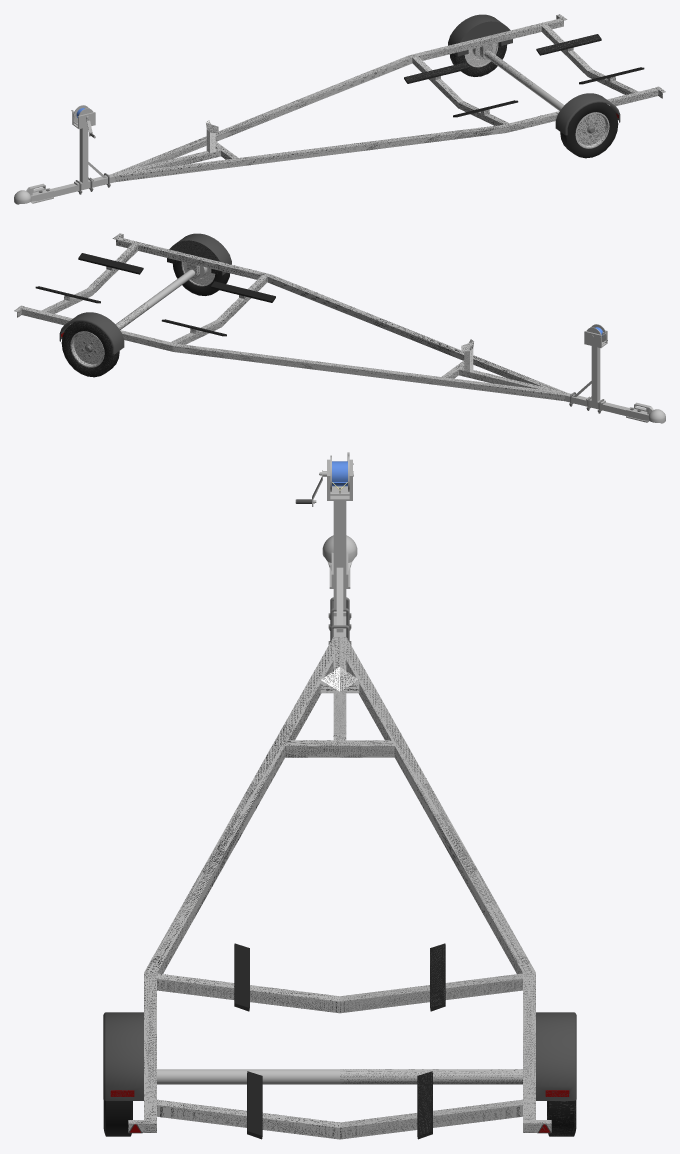
The model's file is Boat Trailer.dae.
The picture shows the model from 3 angles, top to bottom: view 1: azimuth 30°, elevation 25°; view 2: azimuth 150°, elevation 25°; view 3: azimuth 270°, elevation 25°; orthographic projection. The views are drawn at different scales.
Parts seen in each view (by area): view 1: Trailer_Half (×12), Component (×3); view 2: Trailer_Half (×12), Component (×3); view 3: Trailer_Half (×12), Component.
Part boxes in pixels (left/top/right/bottom): Trailer_Half (×12): left=112, top=14, right=665, bottom=182; Component (×3): left=14, top=105, right=114, bottom=204; Trailer_Half (×12): left=14, top=233, right=567, bottom=401; Component (×3): left=565, top=324, right=665, bottom=423; Trailer_Half (×12): left=103, top=637, right=576, bottom=1139; Component: left=328, top=501, right=351, bottom=636.
Size of the model in its own units: 217 by 73.3 by 40.15.
